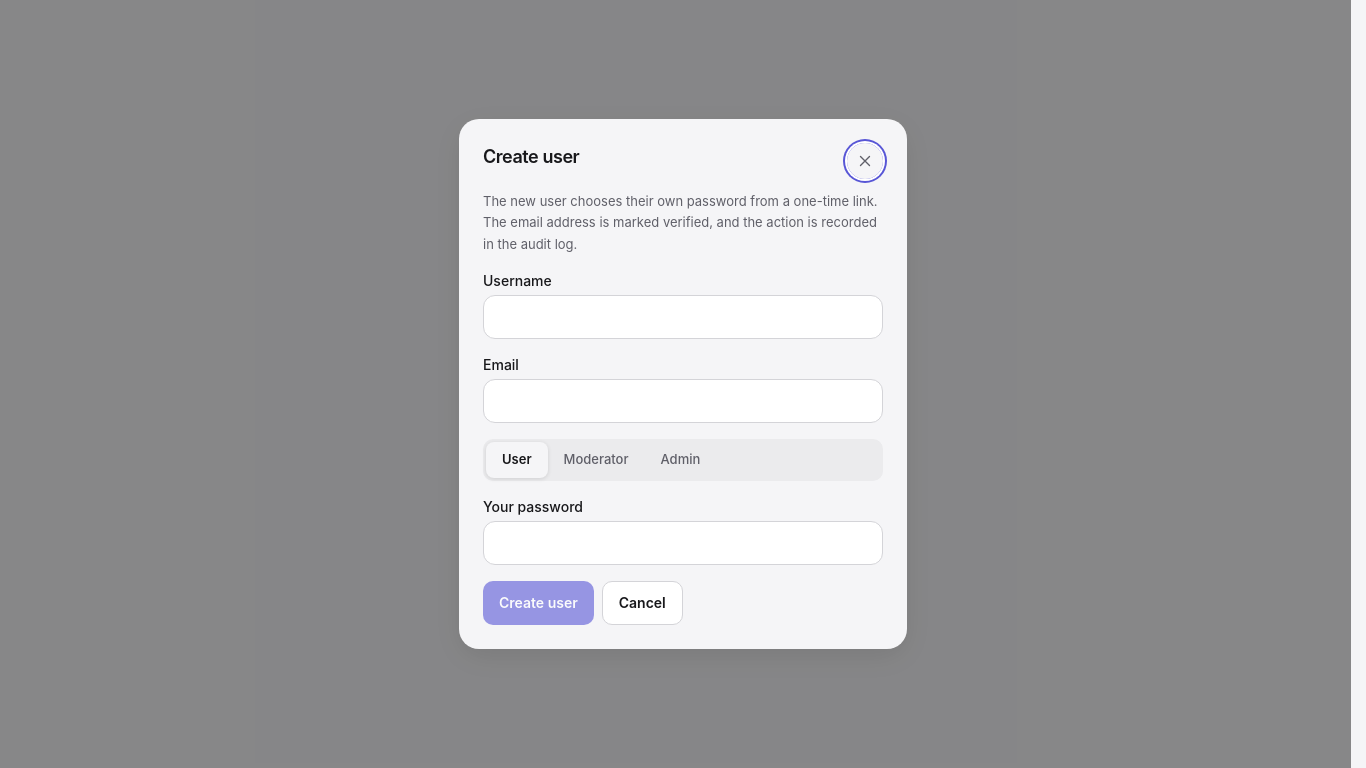
Test: CreateUserDialog › tells the admin the link was emailed, with no link shown
The image size is (1366, 768).
Type "nina" into the field labelled "Username" at (683, 317), box [483,295,883,339]
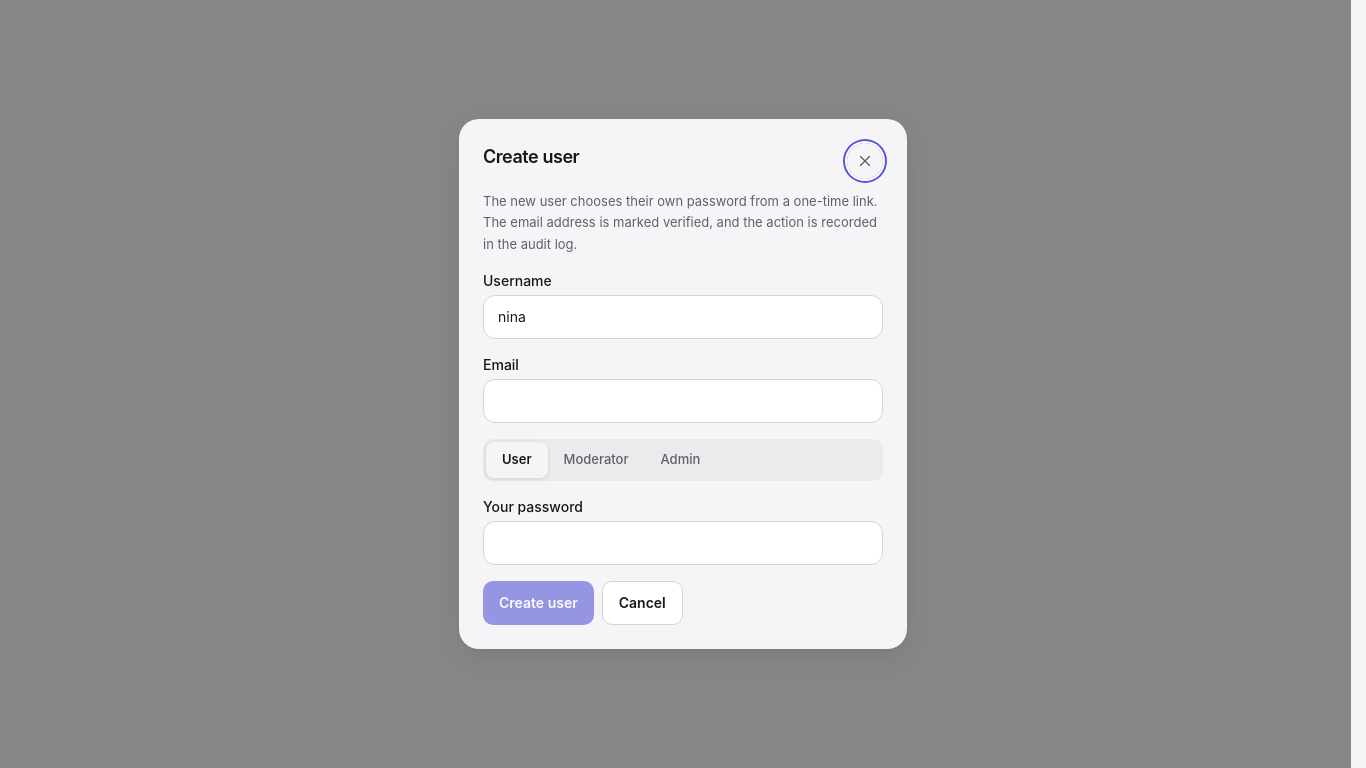
Type "nina@example.test" into the field labelled "Email" at (683, 401), box [483,379,883,423]
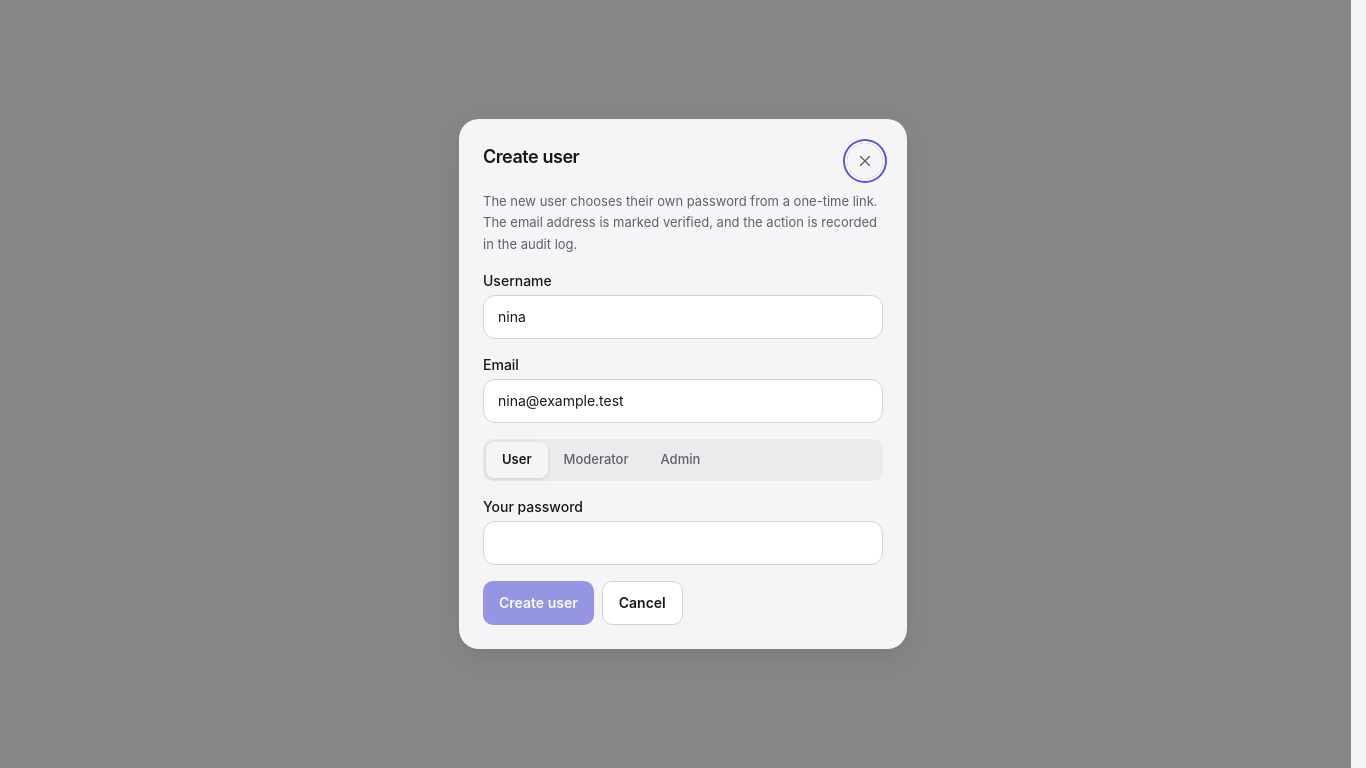
Click the button "Moderator" at (596, 460), box [548,442,644,478]
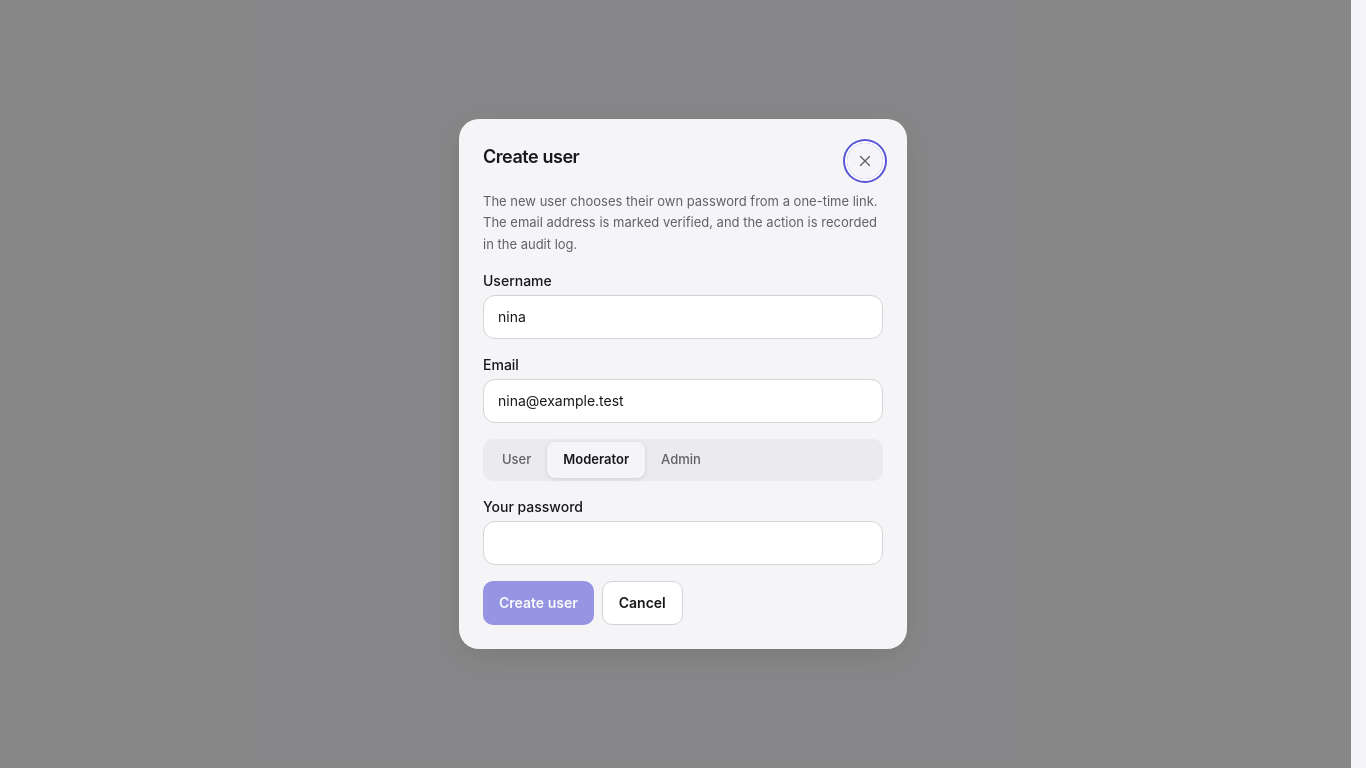
Type "fixture-typed-value" into the password field labelled "Your password" at (683, 543), box [483,521,883,565]
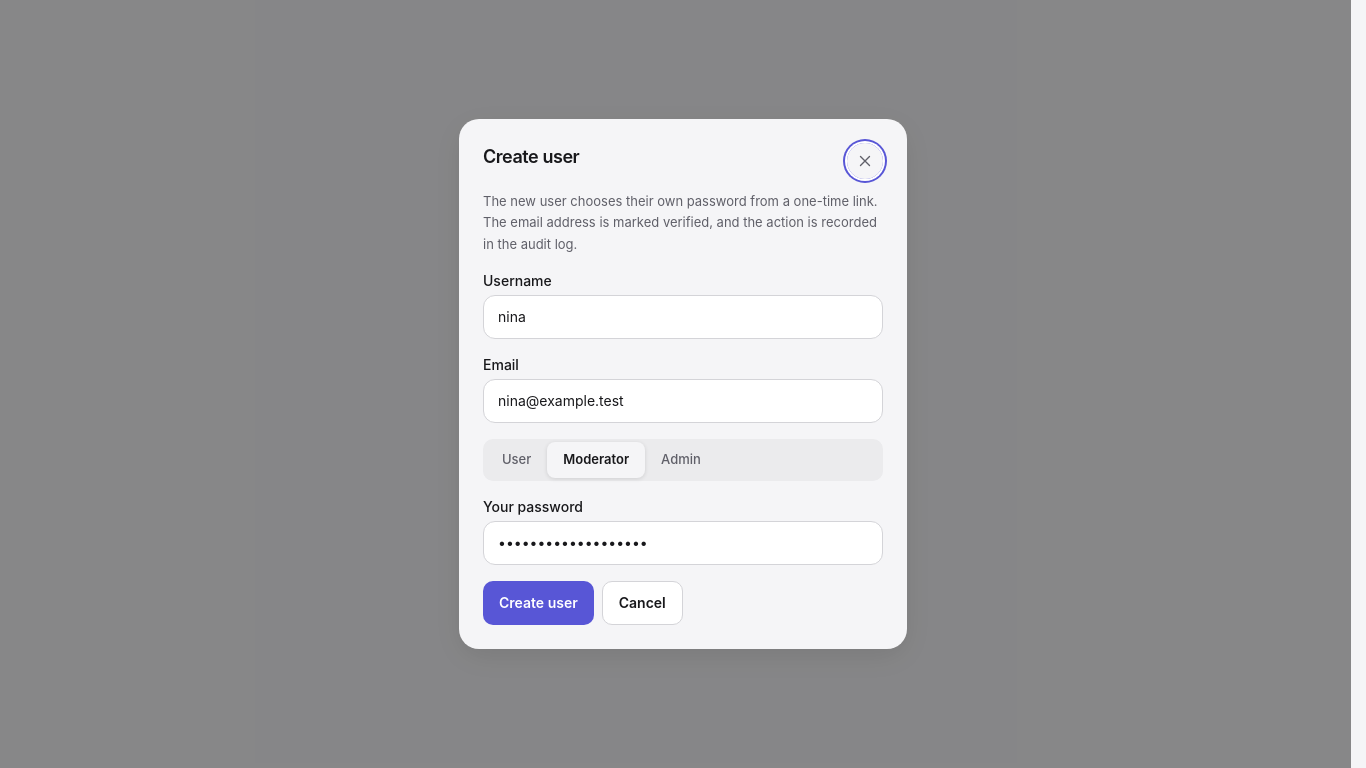
Click the button "Create user" at (538, 603), box [483,581,594,625]
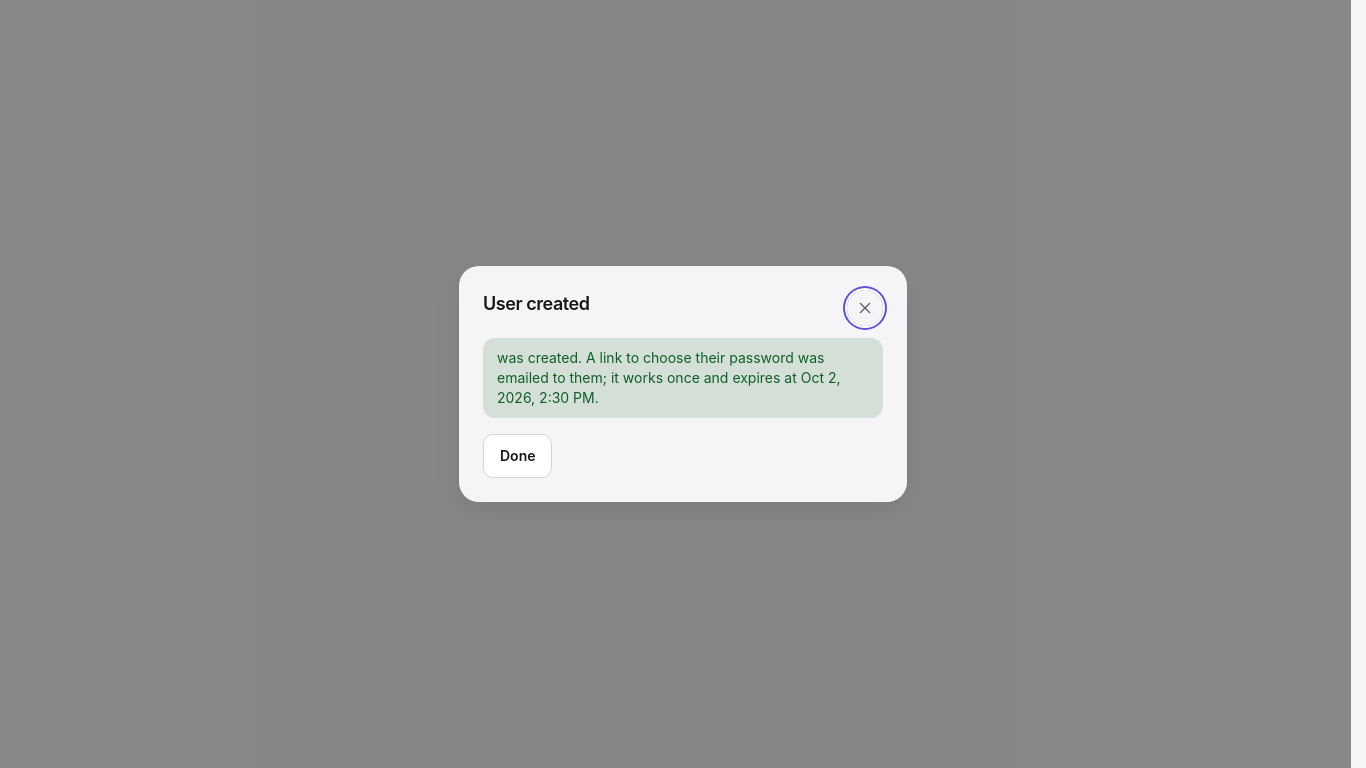
Now the text "emailed" is shown, box [497,349,840,406]
